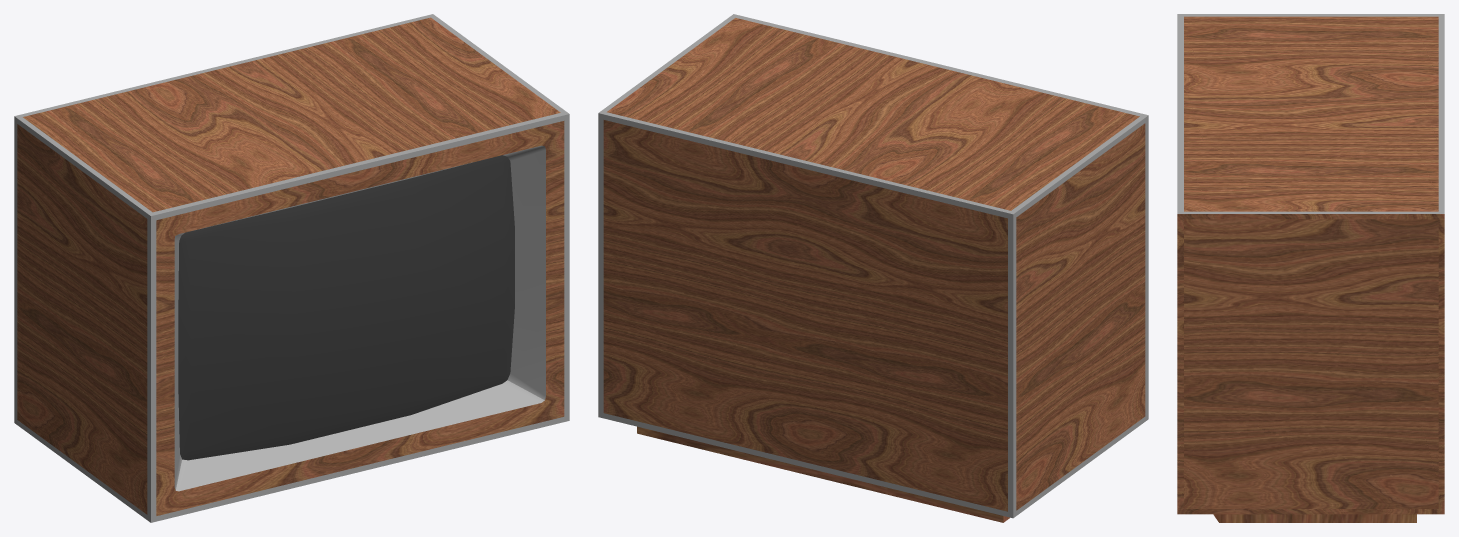
3 renders of one model, left to right at view 1: azimuth 30°, elevation 25°; view 2: azimuth 150°, elevation 25°; view 3: azimuth 270°, elevation 25°, orthographic. The views are drawn at different scales.
Parts seen in each view (by area): view 1: Television; view 2: Television; view 3: Television.
Boxes of the visible parts, x1,y1,x2,y2 form: Television: [14, 14, 569, 522]; Television: [598, 14, 1148, 522]; Television: [1177, 14, 1444, 522].
Size of the model in its own units: 10 by 7.48 by 5.65.
Materials: 3 (1 with a texture image).
